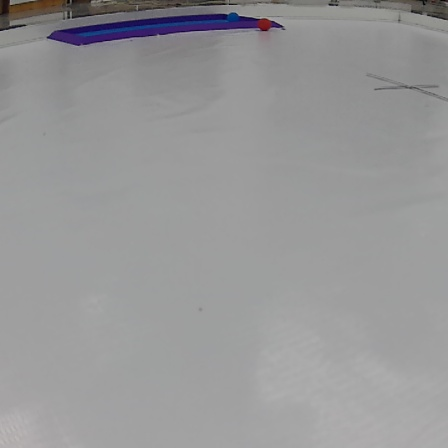blue: (226, 11, 239, 22)
blue_aim: (48, 11, 286, 46)
red: (258, 15, 271, 32)
